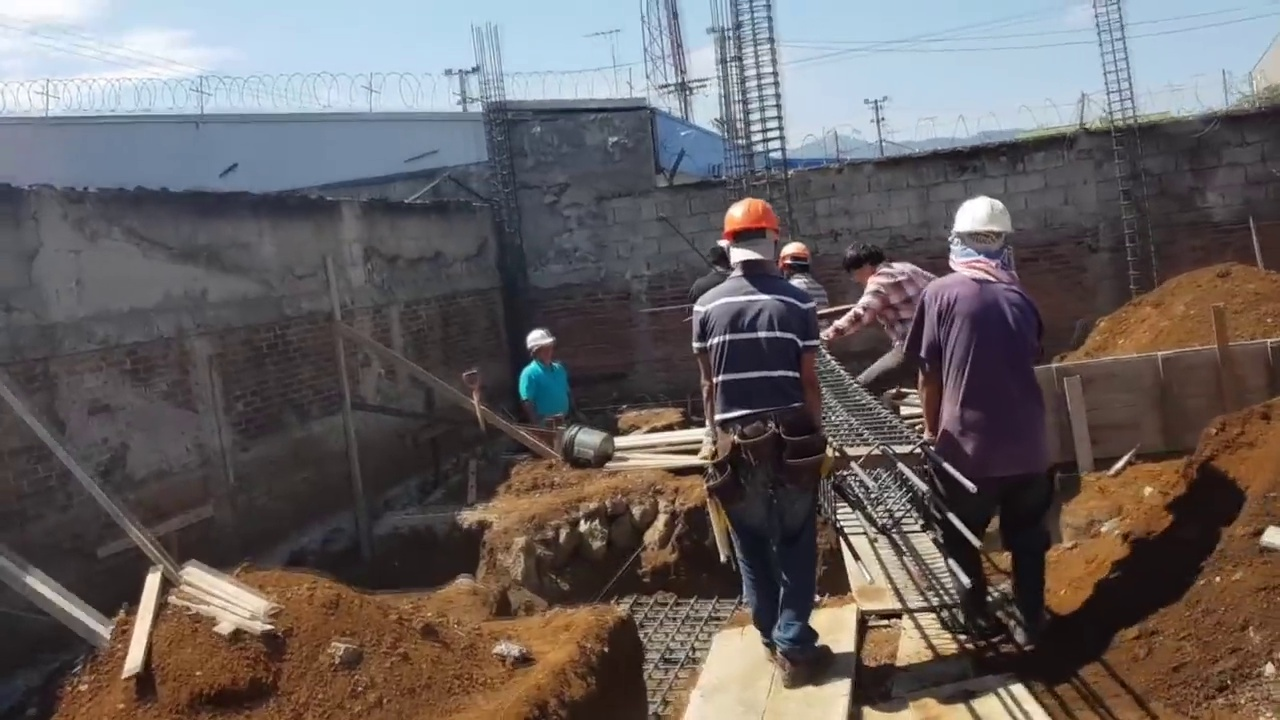helmet: (949, 194, 1015, 241), (719, 197, 780, 242), (778, 241, 815, 266), (526, 330, 555, 353)
helmet-off: (842, 239, 891, 294), (707, 243, 729, 273)
helmet-on: (949, 195, 1015, 280), (720, 198, 776, 283), (777, 238, 814, 283), (526, 329, 556, 365)
person: (693, 197, 844, 680), (914, 194, 1064, 652), (824, 231, 938, 382), (781, 236, 834, 338), (518, 329, 570, 428), (687, 241, 730, 305)
